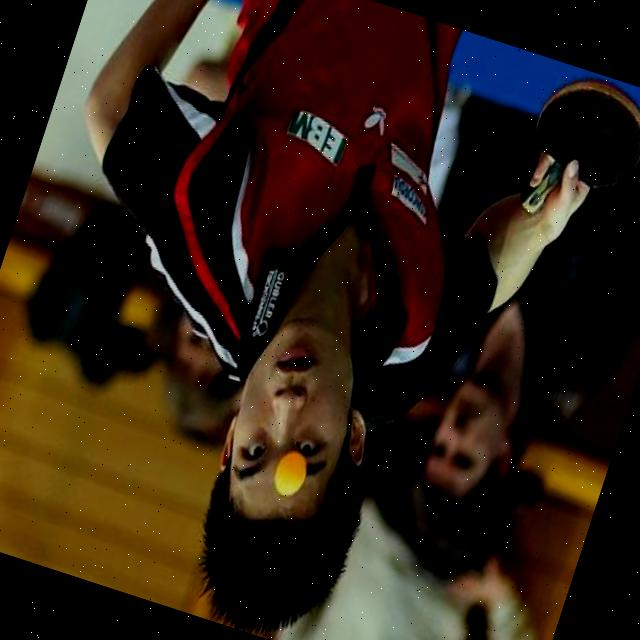ping-pong-ball: (268, 449, 311, 502)
